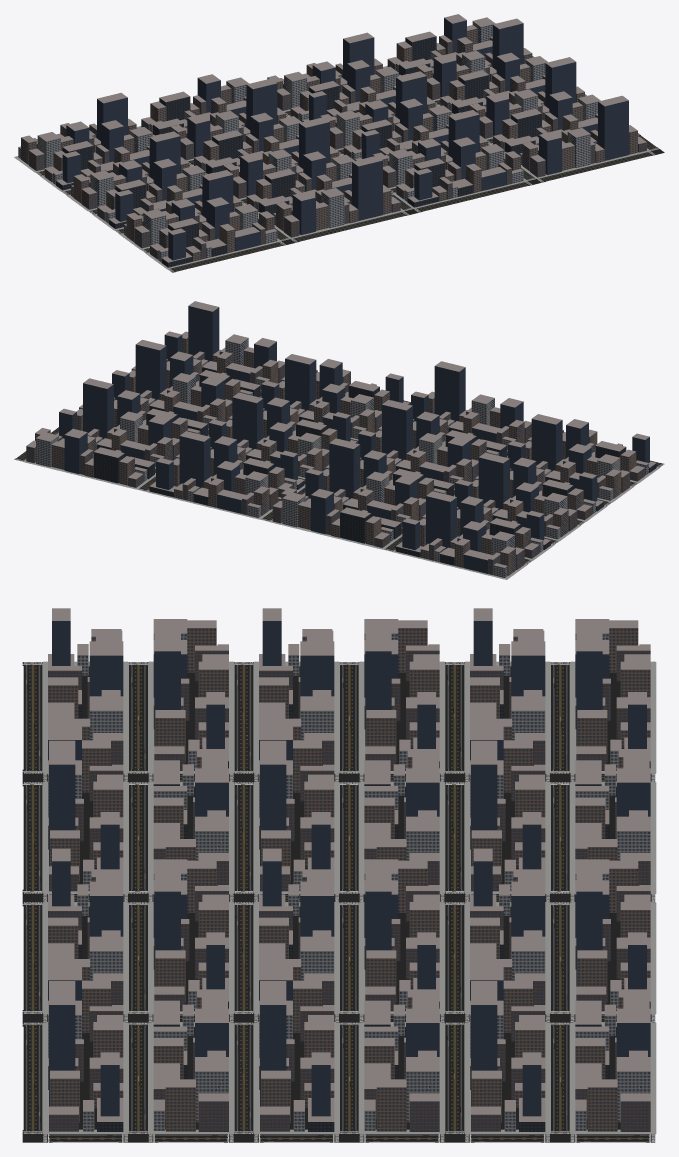
Rendered from city_low_poly_compressed.glb.
3 renders of one model, top to bottom at view 1: azimuth 30°, elevation 25°; view 2: azimuth 150°, elevation 25°; view 3: azimuth 270°, elevation 25°, orthographic. The views are drawn at different scales.
Visible parts, largest first — view 1: building_groups, ground_block_efficient; view 2: building_groups, ground_block_efficient; view 3: building_groups, ground_block_efficient.
Boxes of the visible parts, x1,y1,x2,y2 form: building_groups: [18, 14, 646, 267]; ground_block_efficient: [14, 56, 664, 272]; building_groups: [26, 301, 656, 577]; ground_block_efficient: [14, 383, 664, 579]; building_groups: [48, 608, 650, 1131]; ground_block_efficient: [22, 661, 656, 1142].
Size of the model in its own units: 1209 by 128 by 673.
12 materials, 7 textured.
